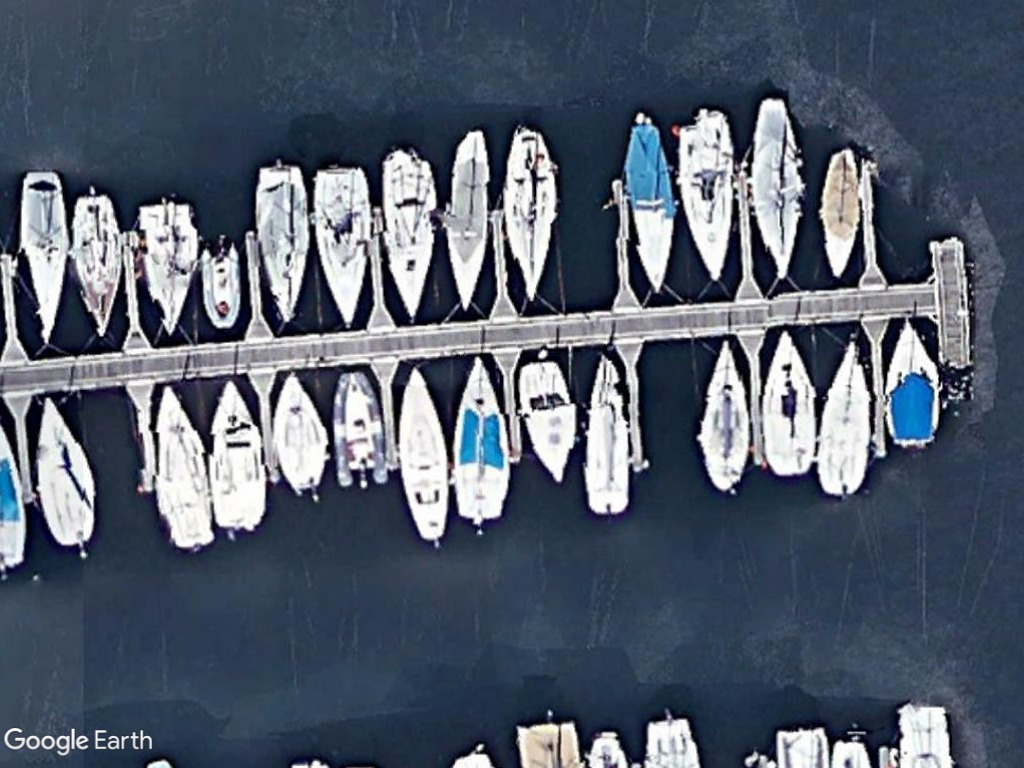boat: (200, 371, 273, 542), (672, 102, 739, 286), (499, 118, 562, 311), (616, 107, 680, 296), (28, 393, 101, 552), (12, 167, 75, 350), (813, 328, 876, 506), (377, 144, 440, 321), (307, 160, 371, 330), (750, 91, 806, 284), (130, 197, 204, 341), (250, 157, 311, 331), (397, 358, 453, 547), (155, 380, 214, 557), (450, 351, 509, 527), (444, 120, 496, 316), (579, 347, 633, 522), (759, 326, 819, 481), (693, 336, 750, 493), (513, 353, 579, 484), (882, 313, 941, 451), (70, 187, 122, 341), (330, 367, 391, 490), (273, 368, 328, 501), (816, 141, 863, 283), (198, 238, 243, 334)
